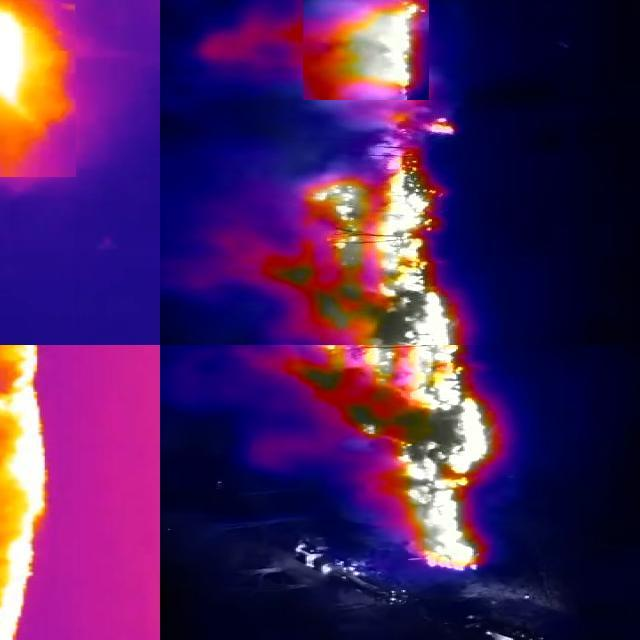fire: (318, 346, 498, 575), (303, 115, 463, 346), (1, 346, 58, 640), (1, 1, 77, 177), (304, 1, 430, 100)
